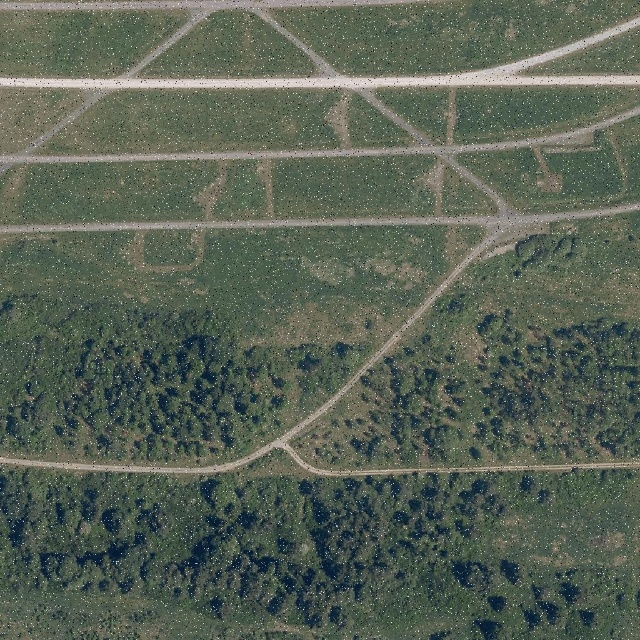vegetation: (2, 466, 640, 638), (2, 298, 371, 462), (318, 309, 639, 464), (514, 232, 589, 273)
